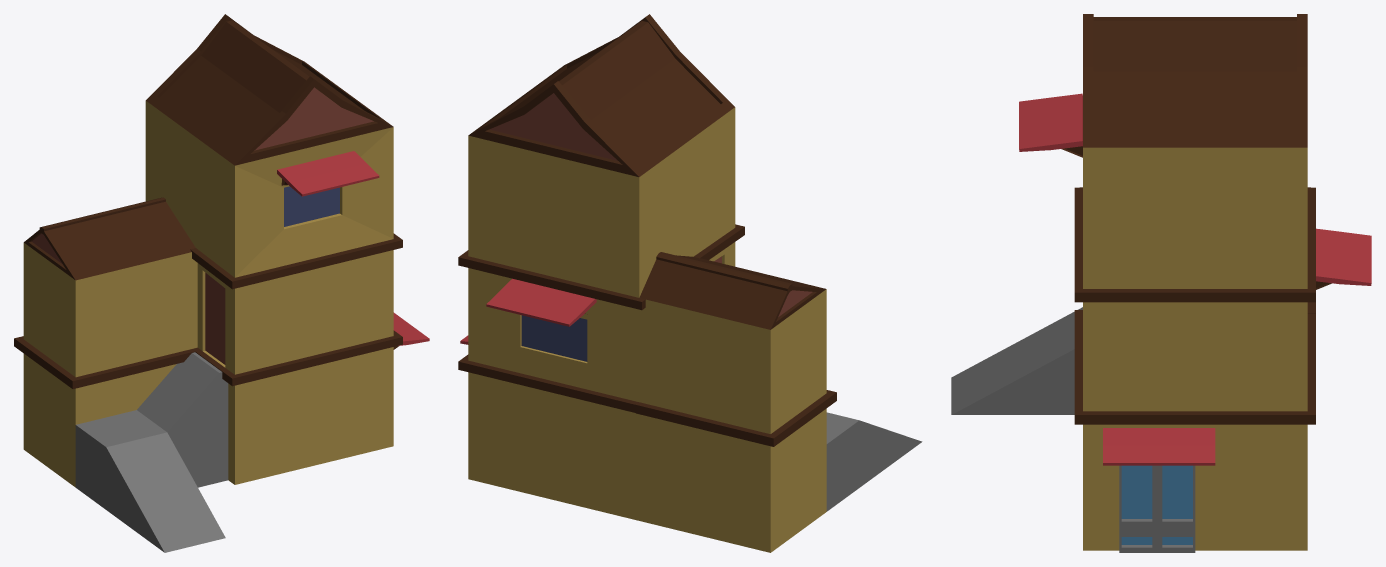
File: Building_A.fbx
The picture shows the model from 3 angles, left to right: view 1: azimuth 30°, elevation 25°; view 2: azimuth 150°, elevation 25°; view 3: azimuth 270°, elevation 25°; orthographic projection. The views are drawn at different scales.
Parts seen in each view (by area): view 1: Building C, Cube.119, Cube.120, Cover.002, Cover; view 2: Building C, Cube.119, Cube.120, Cover.001; view 3: Building C, Cube.120, Cube.121, Cover, Cover.002, Cover.001.
Boxes of the visible parts, x1,y1,x2,y2 form: Building C: (145, 14, 402, 484); Cube.119: (14, 197, 200, 487); Cube.120: (75, 352, 228, 552); Cover.002: (277, 151, 379, 196); Cover: (393, 312, 429, 349); Building C: (458, 14, 744, 520); Cube.119: (635, 252, 836, 552); Cube.120: (826, 412, 922, 511); Cover.001: (486, 278, 596, 326); Building C: (1074, 14, 1315, 550); Cube.120: (951, 307, 1082, 414); Cube.121: (1119, 465, 1195, 552); Cover: (1103, 428, 1215, 465); Cover.002: (1019, 93, 1082, 157); Cover.001: (1316, 228, 1371, 289).
Bounding box in the file's own units: 859 × 957 × 747.
